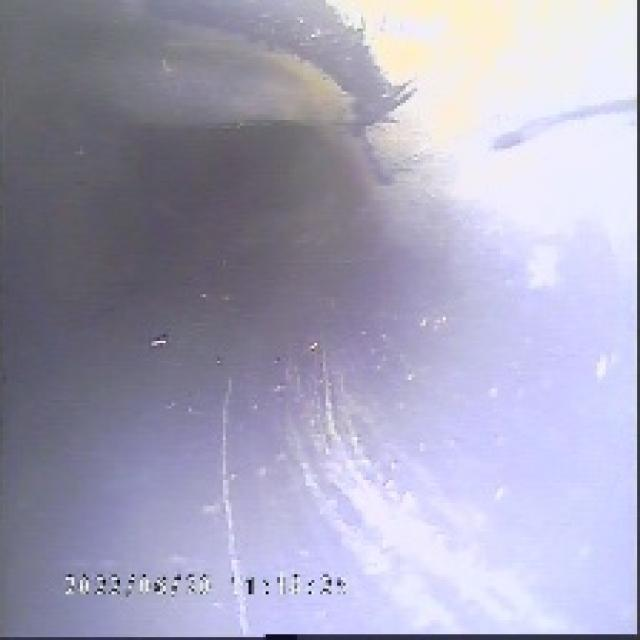shape_deformation: (74, 66, 557, 440)
